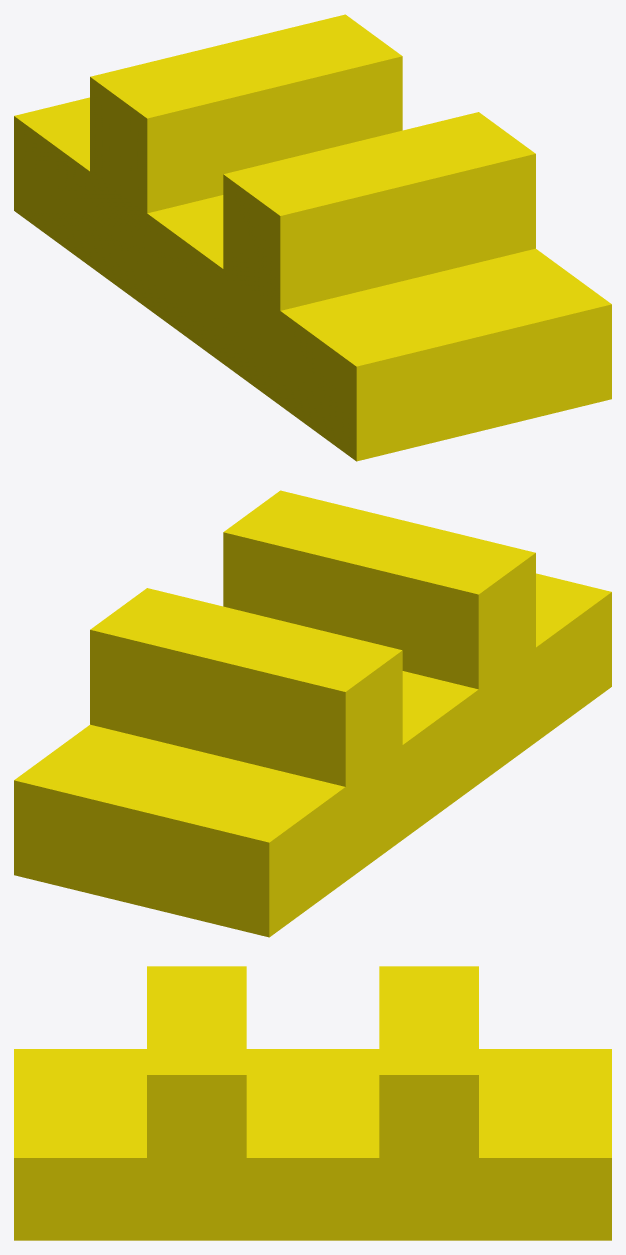
Rendered from modelo_didático_9.glb.
3 views of the same model, one above another, from view 1: azimuth 30°, elevation 25°; view 2: azimuth 150°, elevation 25°; view 3: azimuth 270°, elevation 25° (orthographic). The views are drawn at different scales.
Visible parts, largest first — view 1: Modelo didatico 9.SLDPRT; view 2: Modelo didatico 9.SLDPRT; view 3: Modelo didatico 9.SLDPRT.
Boxes of the visible parts, box(x1,y1,x2,y2) form: Modelo didatico 9.SLDPRT: box(14, 14, 611, 461); Modelo didatico 9.SLDPRT: box(14, 490, 611, 937); Modelo didatico 9.SLDPRT: box(14, 966, 611, 1240).
Size of the model in its own units: 0.031 by 0.022 by 0.072.
